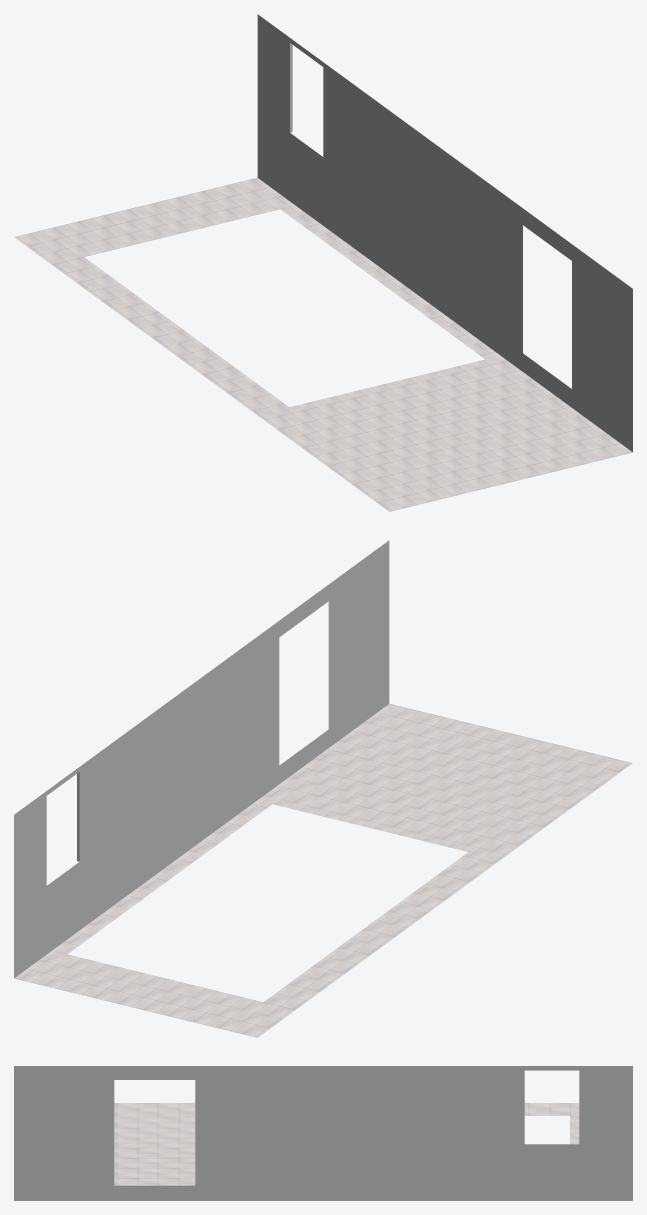
The model's file is poolside.fbx.
3 views of the same model, one above another, from view 1: azimuth 30°, elevation 25°; view 2: azimuth 150°, elevation 25°; view 3: azimuth 270°, elevation 25° (orthographic). The views are drawn at different scales.
Parts seen in each view (by area): view 1: poolside; view 2: poolside; view 3: poolside.
Boxes of the visible parts, x1,y1,x2,y2 form: poolside: [14, 14, 632, 511]; poolside: [14, 540, 632, 1037]; poolside: [14, 1066, 632, 1200].
Bounding box in the file's own units: 446 × 284 × 1180.
